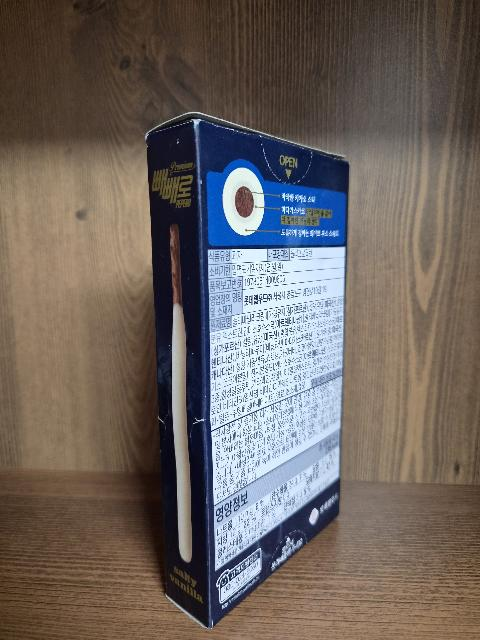pepero: (144, 112, 350, 629)
